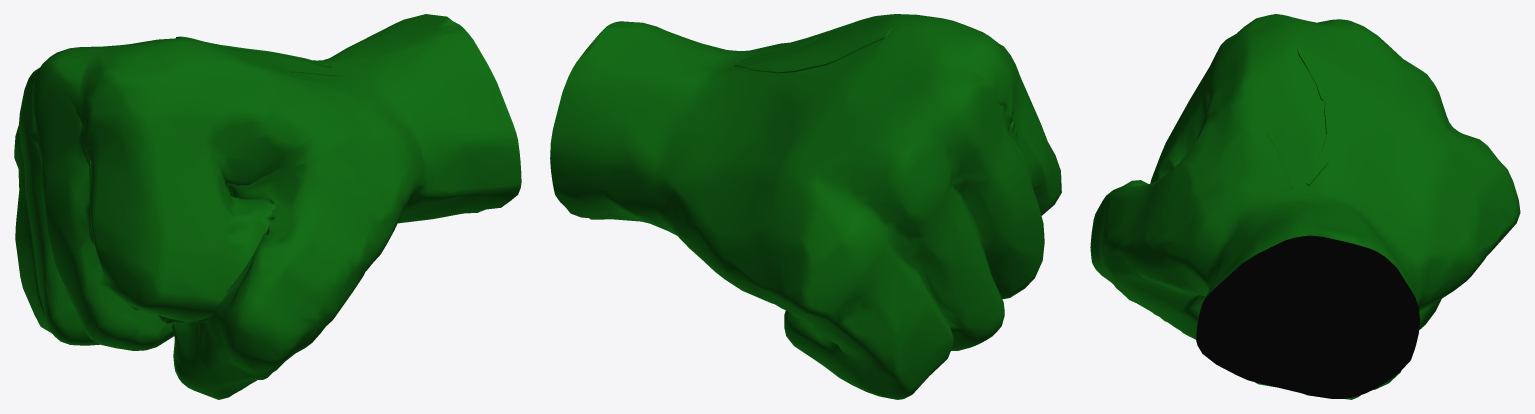
The model's file is hulkyumruk.fbx.
The picture shows the model from 3 angles, left to right: view 1: azimuth 30°, elevation 25°; view 2: azimuth 150°, elevation 25°; view 3: azimuth 270°, elevation 25°; orthographic projection. The views are drawn at different scales.
Parts seen in each view (by area): view 1: hulkyumruk; view 2: hulkyumruk; view 3: hulkyumruk.
Boxes of the visible parts, x1,y1,x2,y2 form: hulkyumruk: (14,14,521,399); hulkyumruk: (550,14,1061,399); hulkyumruk: (1090,14,1520,399).
Size of the model in its own units: 11.88 by 8.87 by 11.45.
